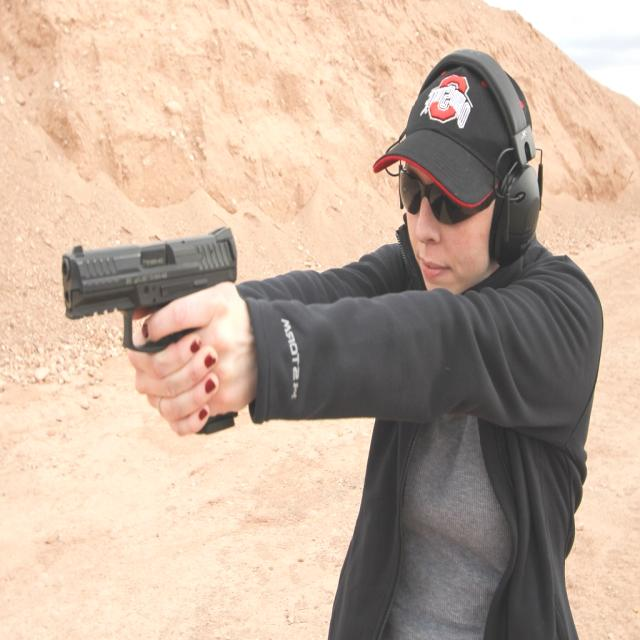pistol: (64, 215, 247, 473)
